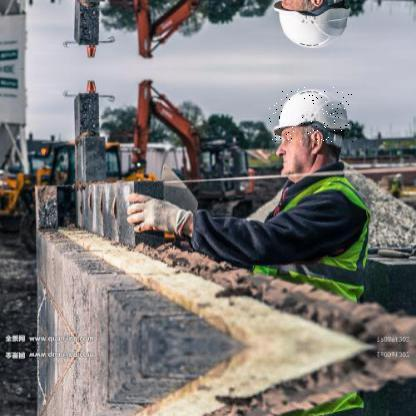safetyhelmet: (269, 88, 354, 144)
